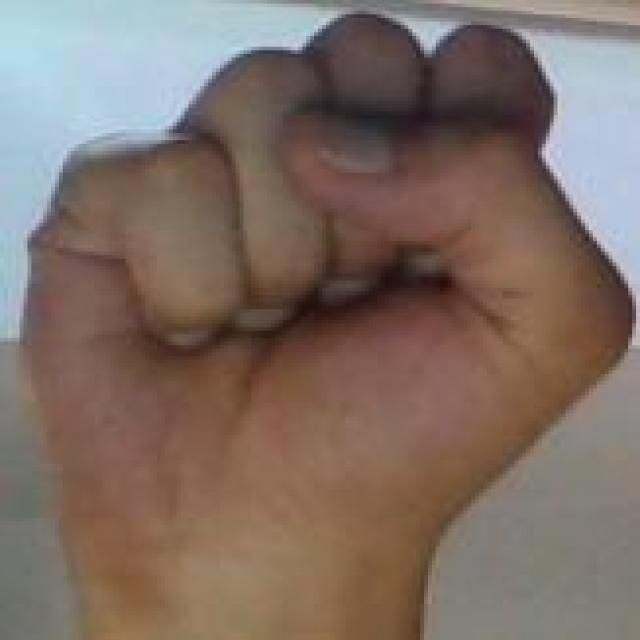S: (10, 7, 640, 527)
